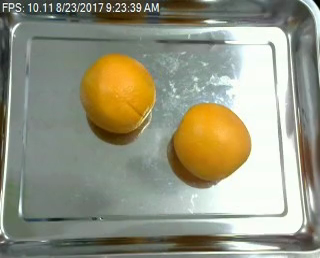Orange: (81, 52, 157, 133), (173, 102, 250, 181)
